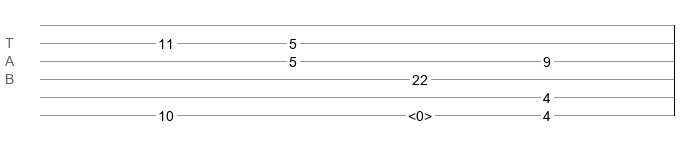10: (158, 108, 174, 118)
11: (158, 36, 174, 46)
22: (412, 72, 428, 82)
4: (543, 108, 551, 118), (543, 90, 551, 100)
5: (289, 36, 297, 46), (289, 54, 297, 64)
9: (543, 54, 551, 64)
harmonic: (408, 108, 432, 118)
